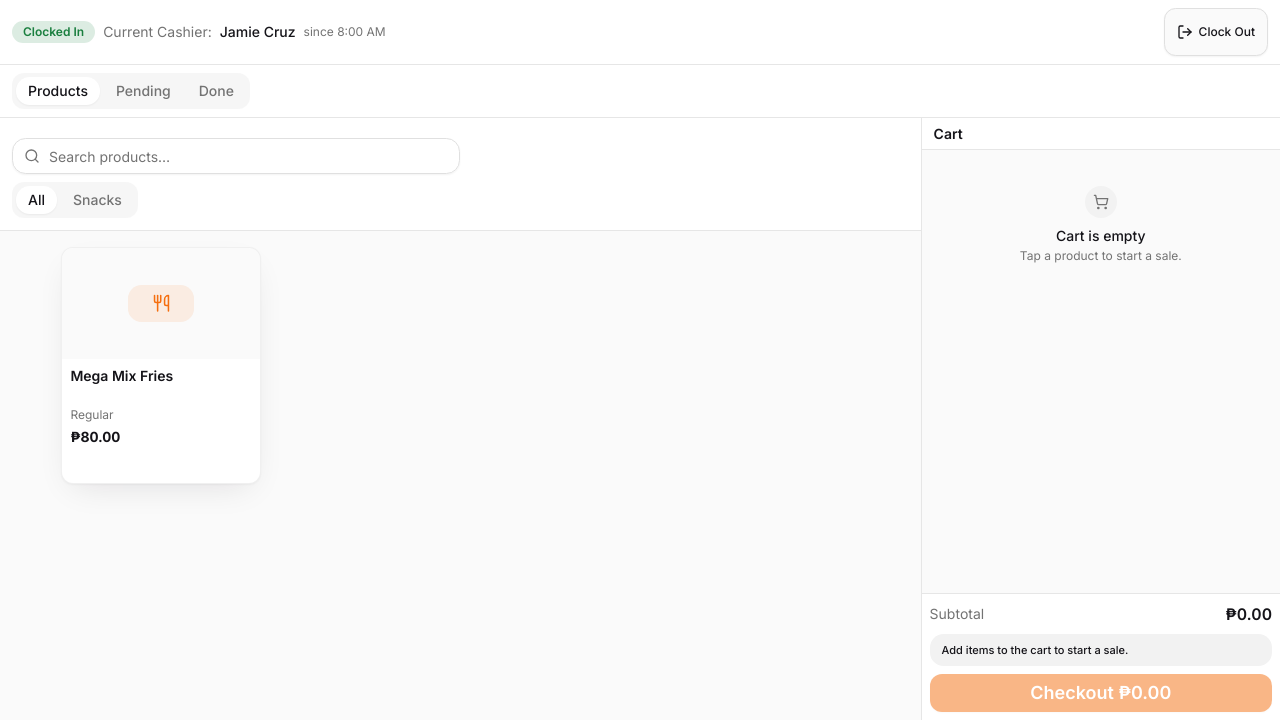
Test: TerminalPage — Add-ons dialog splits into cart lines before adding (Task 107) › opens the Add-ons dialog instead of adding to the cart when the variant has option groups assigned
Click the text "Mega Mix Fries".
click(122, 376)  # box left=70, top=367, right=173, bottom=384
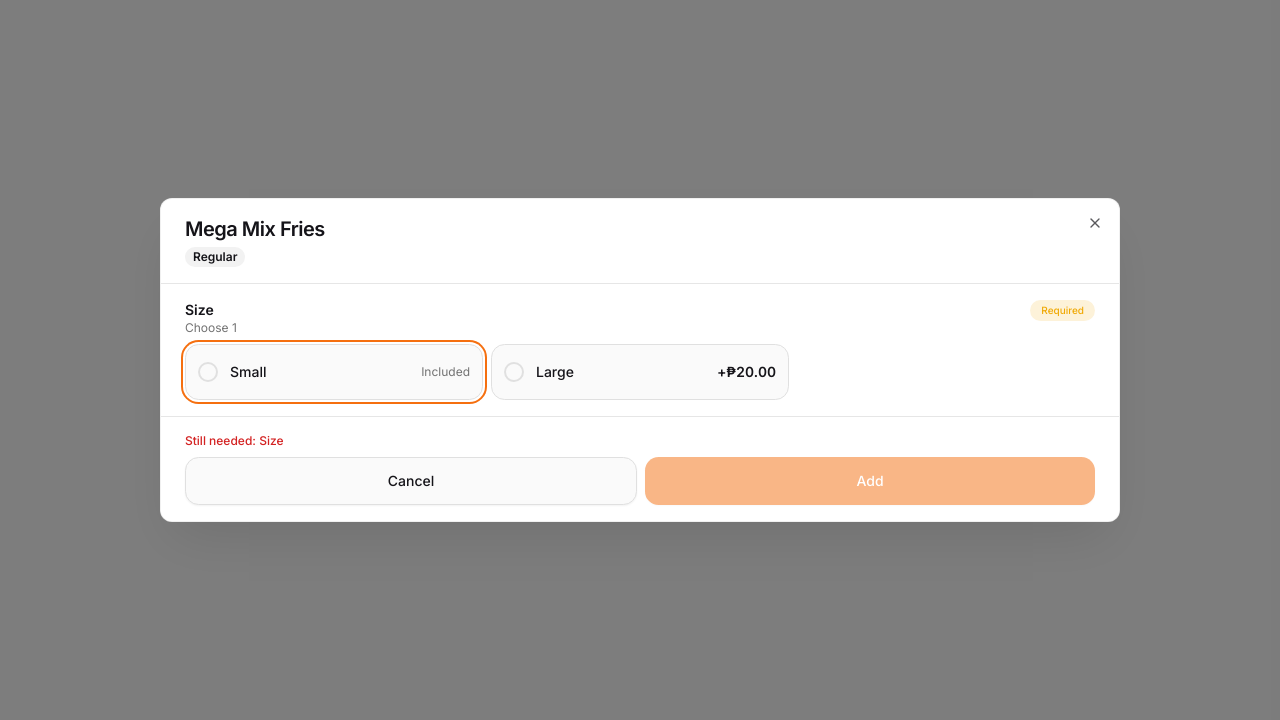
Expected: the button "Add" is shown, left=645, top=457, right=1095, bottom=505
Expected: the text "Small" is shown, left=230, top=363, right=266, bottom=380
Expected: the text "Large" is shown, left=536, top=363, right=574, bottom=380
